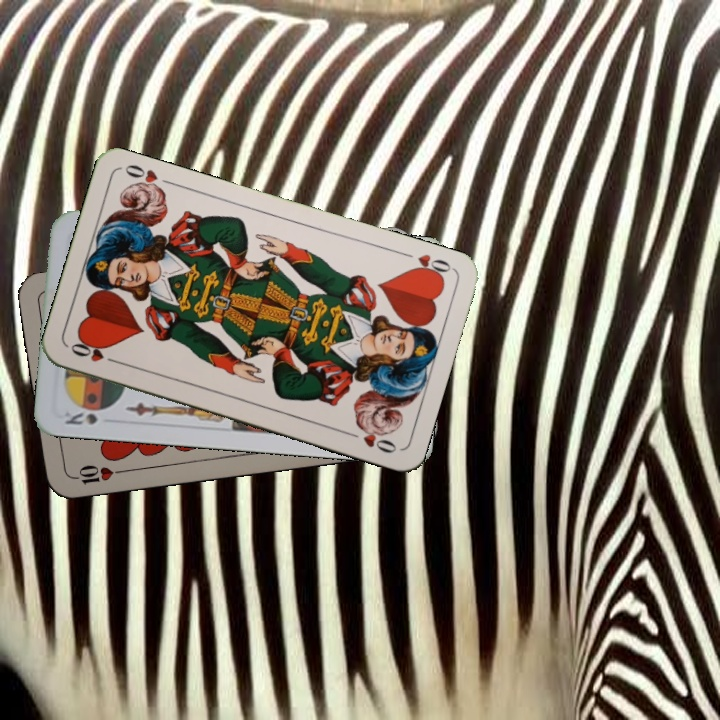H10: (67, 460, 126, 488)
HO: (397, 248, 455, 282), (66, 337, 123, 367)
SK: (61, 407, 100, 428)
